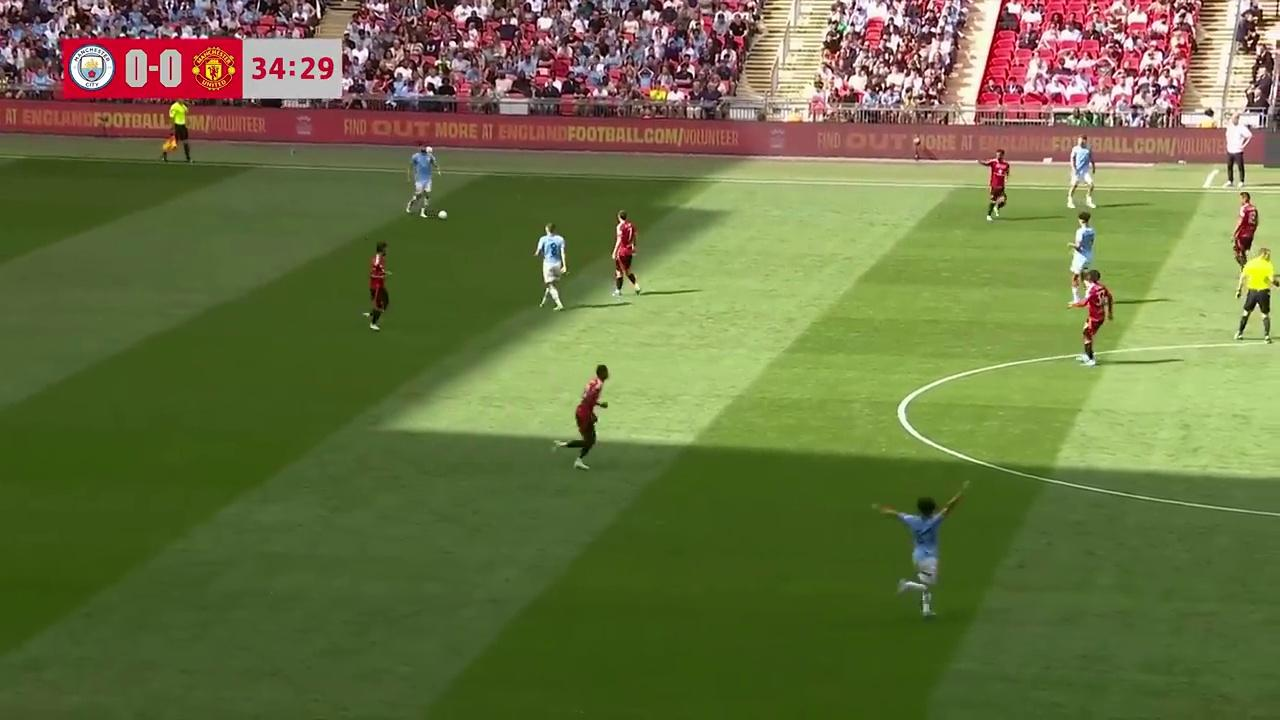ball: (435, 207, 448, 220)
player: (876, 495, 950, 619), (571, 364, 611, 463), (1078, 271, 1113, 366), (533, 223, 566, 310), (405, 143, 443, 218), (611, 211, 640, 298), (365, 242, 391, 331), (1068, 213, 1096, 291), (1066, 142, 1096, 210), (1233, 192, 1259, 266), (986, 154, 1008, 221)
referee: (1234, 245, 1277, 344), (162, 99, 193, 163)
